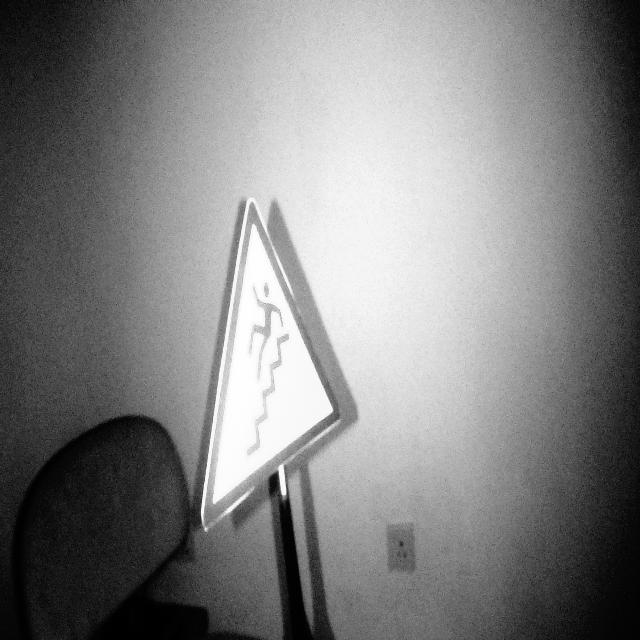Sign: (199, 196, 343, 536)
